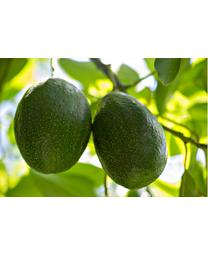avocado: (13, 77, 93, 174), (92, 92, 168, 190)
